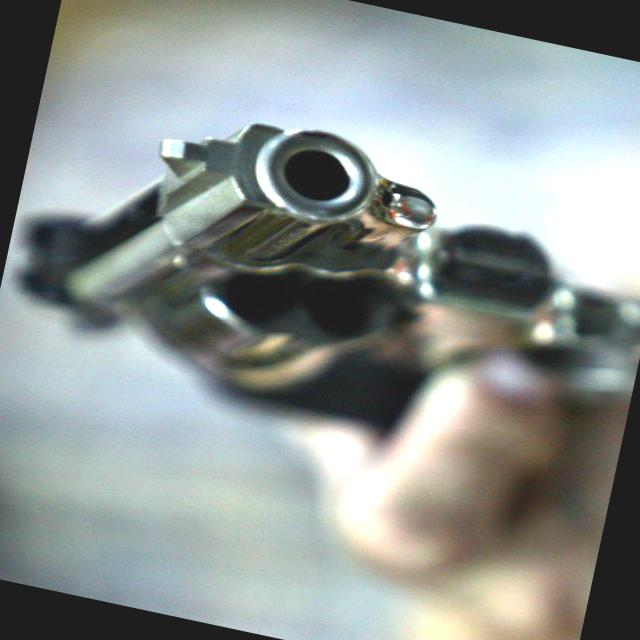handgun: (0, 72, 639, 478)
